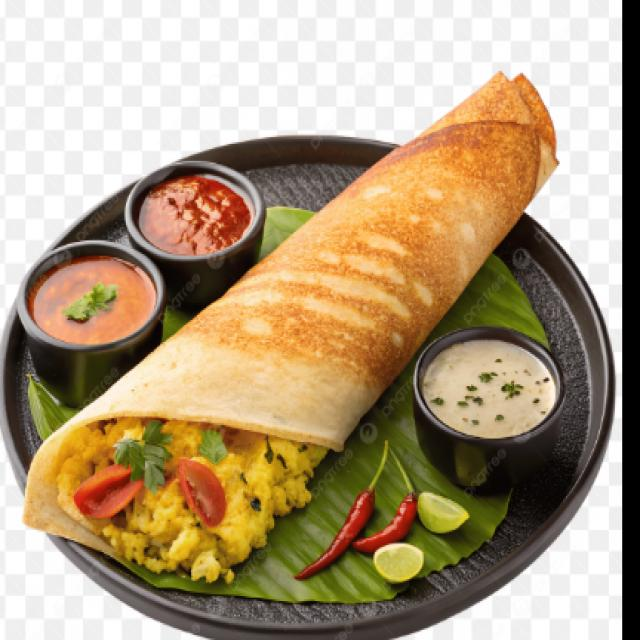dosa: (11, 77, 562, 594)
